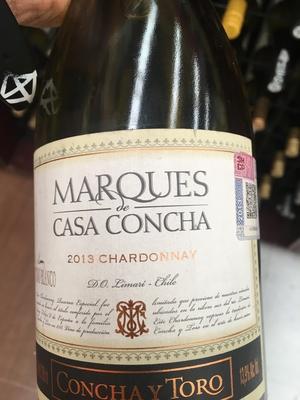marques de casa concha chardonnay: (16, 34, 277, 400)
